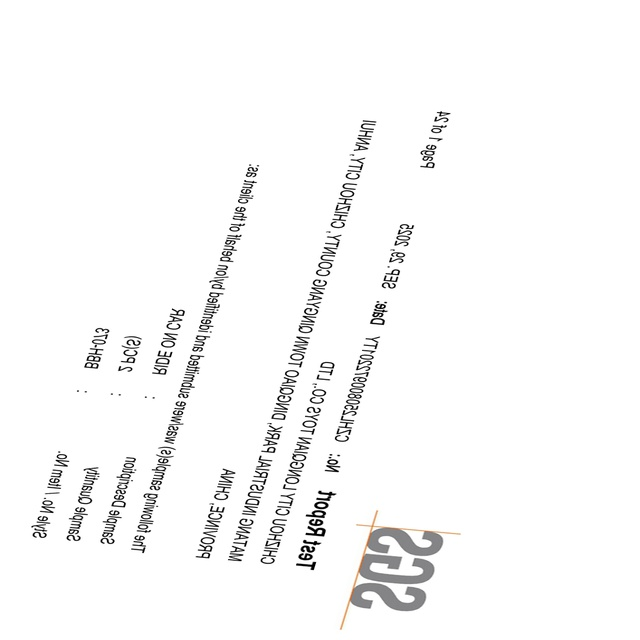sgs: (352, 526, 444, 612)
